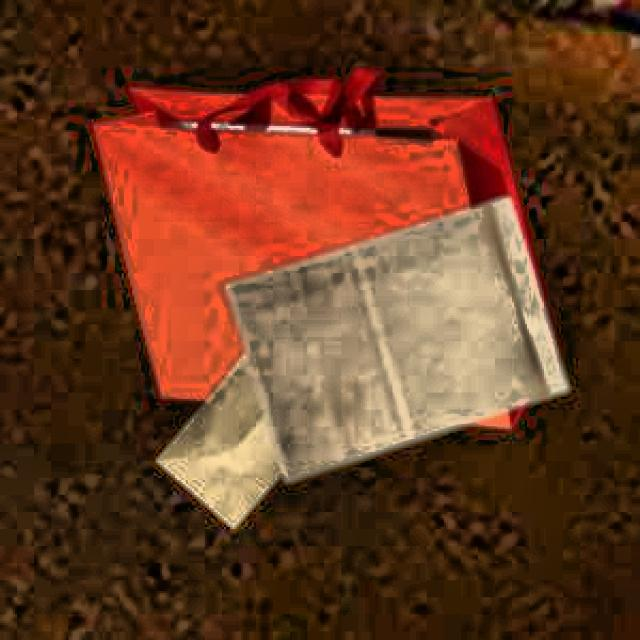Paper-bag: (72, 63, 556, 447), (217, 188, 583, 498), (122, 317, 376, 535)
